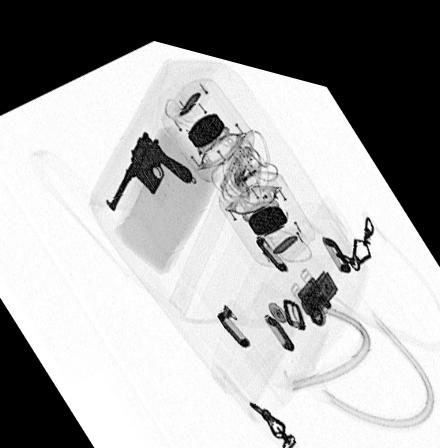Gun: (104, 121, 193, 205)
